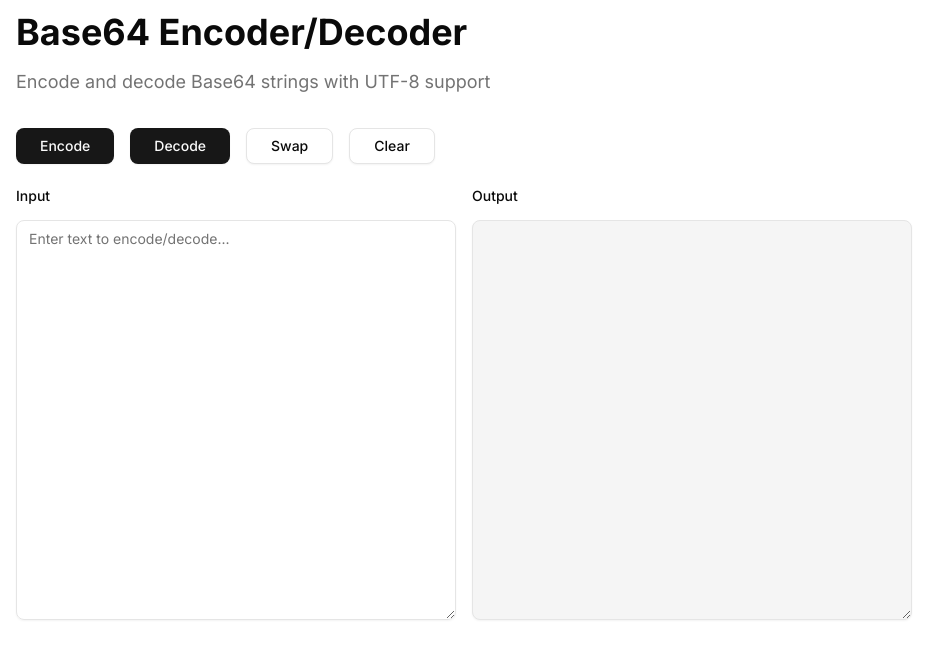
Test: Base64Tool › handles invalid base64 when decoding
Type "This is not valid base64!@#" into the text box with placeholder "Enter text to encode/decode..." at (236, 420), box [16, 220, 456, 620]
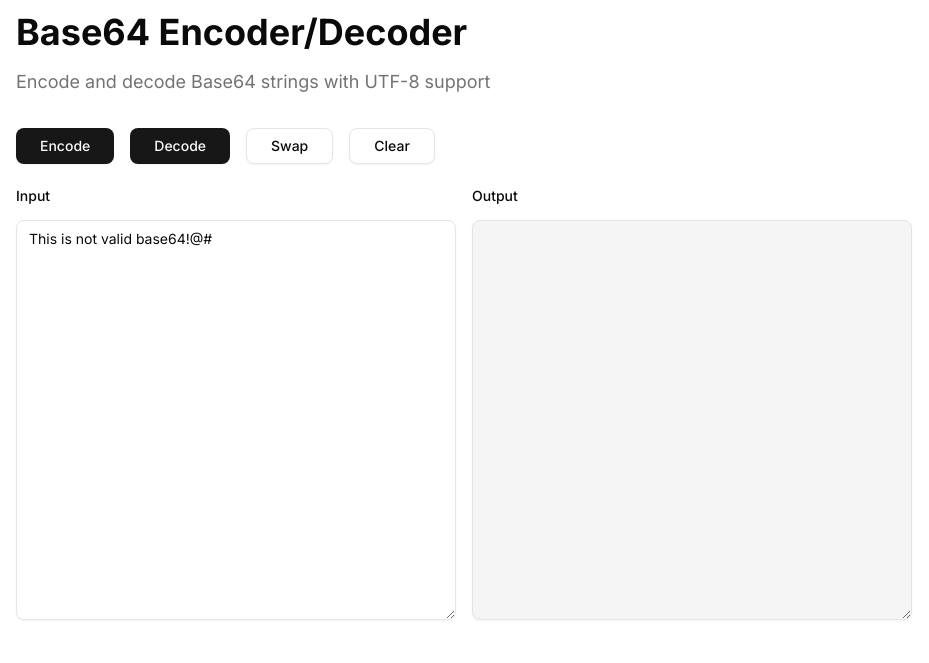
Click the button "Decode" at (180, 146), box [130, 128, 230, 164]
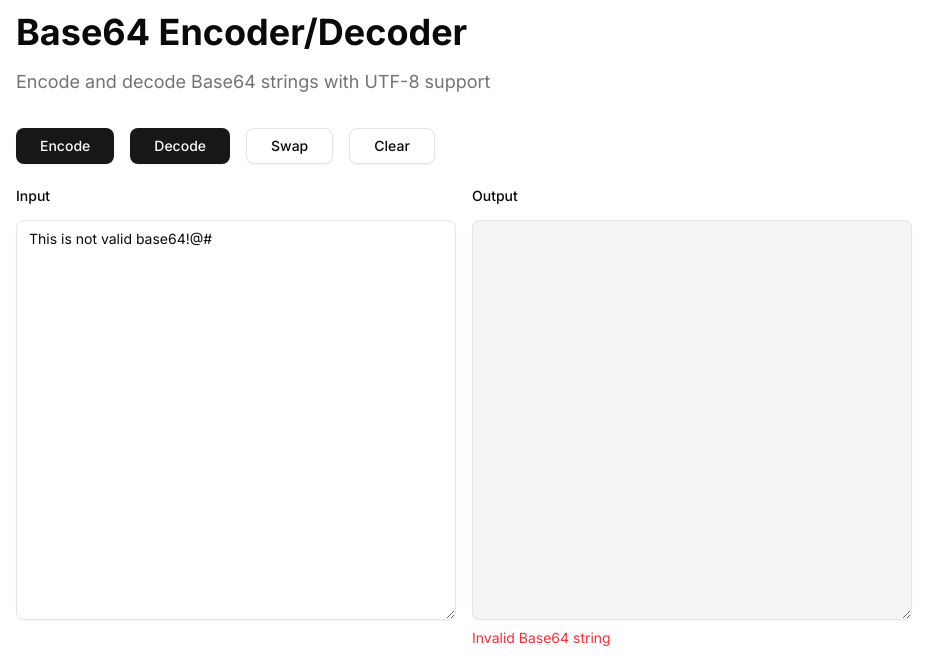
Result: the text "Invalid Base64 string" is shown at [472, 629, 611, 646]
